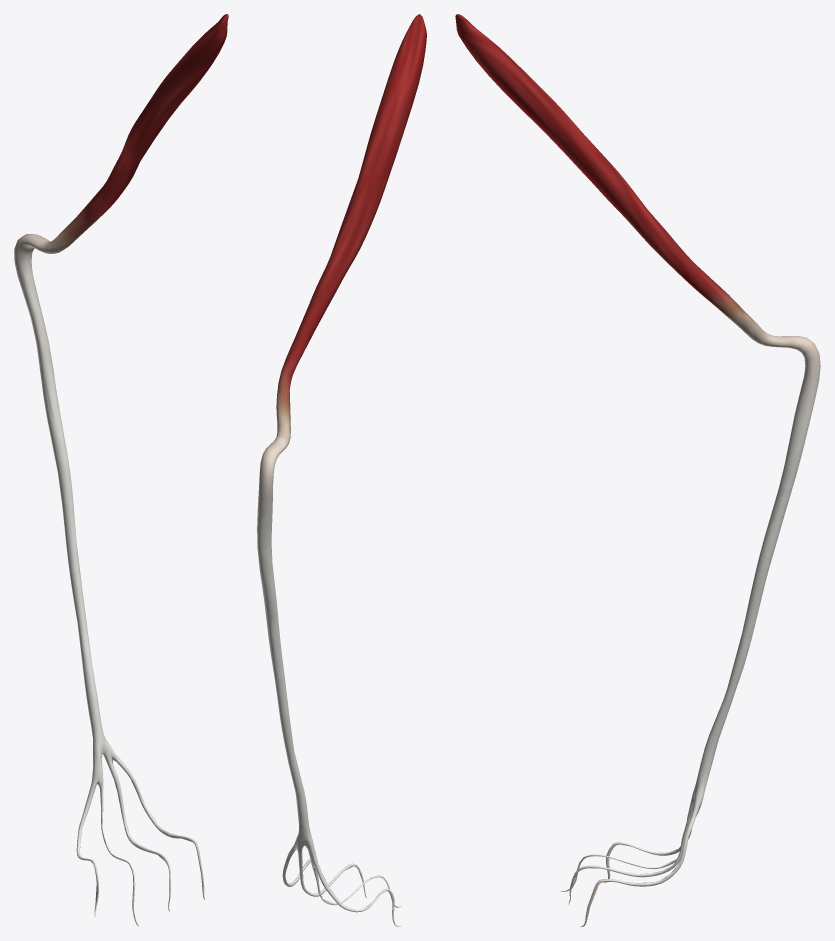
File: R Tendo calcaneus.fbx
3 renders of one model, left to right at view 1: azimuth 30°, elevation 25°; view 2: azimuth 150°, elevation 25°; view 3: azimuth 270°, elevation 25°, orthographic. The views are drawn at different scales.
Visible parts, largest first — view 1: R Tendo calcaneus, R Tendo calcaneus low, R Tendo calcaneus high; view 2: R Tendo calcaneus, R Tendo calcaneus low, R Tendo calcaneus high; view 3: R Tendo calcaneus, R Tendo calcaneus low, R Tendo calcaneus high.
Part boxes in pixels (bbox=[...]): R Tendo calcaneus: bbox=[14, 14, 228, 926]; R Tendo calcaneus low: bbox=[16, 17, 227, 910]; R Tendo calcaneus high: bbox=[15, 22, 227, 924]; R Tendo calcaneus: bbox=[257, 14, 426, 926]; R Tendo calcaneus low: bbox=[257, 16, 425, 923]; R Tendo calcaneus high: bbox=[258, 21, 425, 926]; R Tendo calcaneus: bbox=[455, 14, 820, 926]; R Tendo calcaneus low: bbox=[455, 15, 820, 922]; R Tendo calcaneus high: bbox=[458, 18, 812, 926].
Size of the model in its own units: 1.67 by 14.88 by 5.51.
